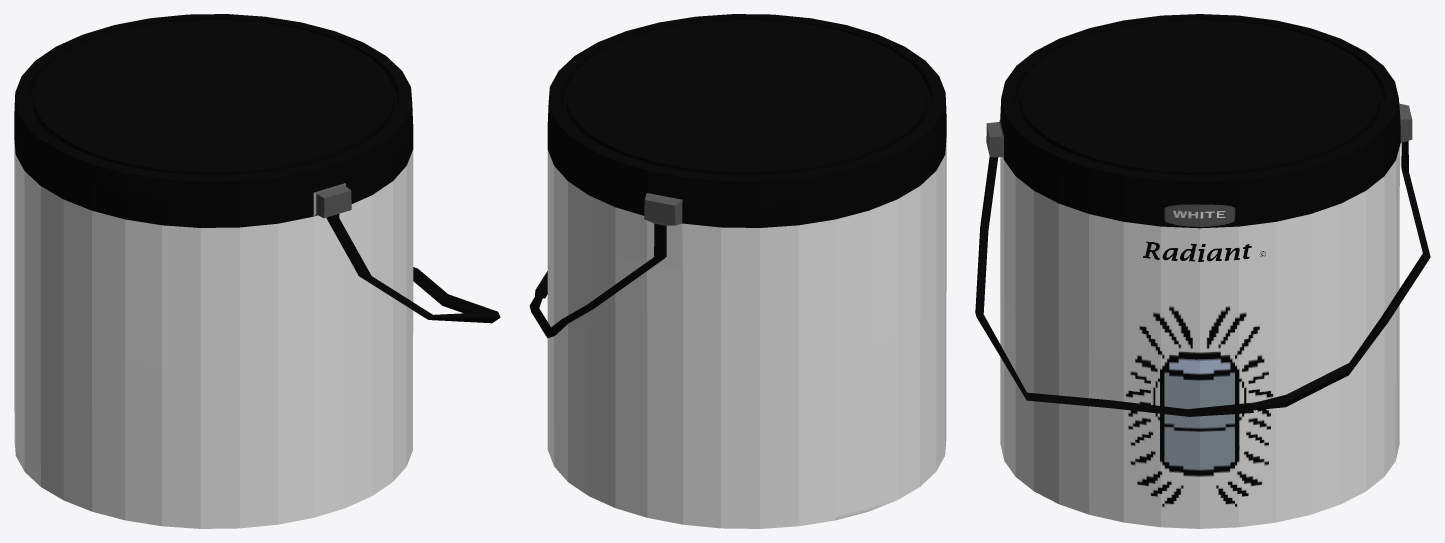
The model's file is whitegal.fbx.
3 renders of one model, left to right at view 1: azimuth 30°, elevation 25°; view 2: azimuth 150°, elevation 25°; view 3: azimuth 270°, elevation 25°, orthographic.
Visible parts, largest first — view 1: Cylinder, Cylinder.001; view 2: Cylinder, Cylinder.001; view 3: Cylinder, Cylinder.001.
Boxes of the visible parts, x1,y1,x2,y2 form: Cylinder: (14,14,500,528); Cylinder.001: (29,19,397,175); Cylinder: (529,14,946,528); Cylinder.001: (563,19,931,175); Cylinder: (975,14,1430,528); Cylinder.001: (1015,19,1384,175).
Size of the model in its own units: 215 by 192 by 227.
